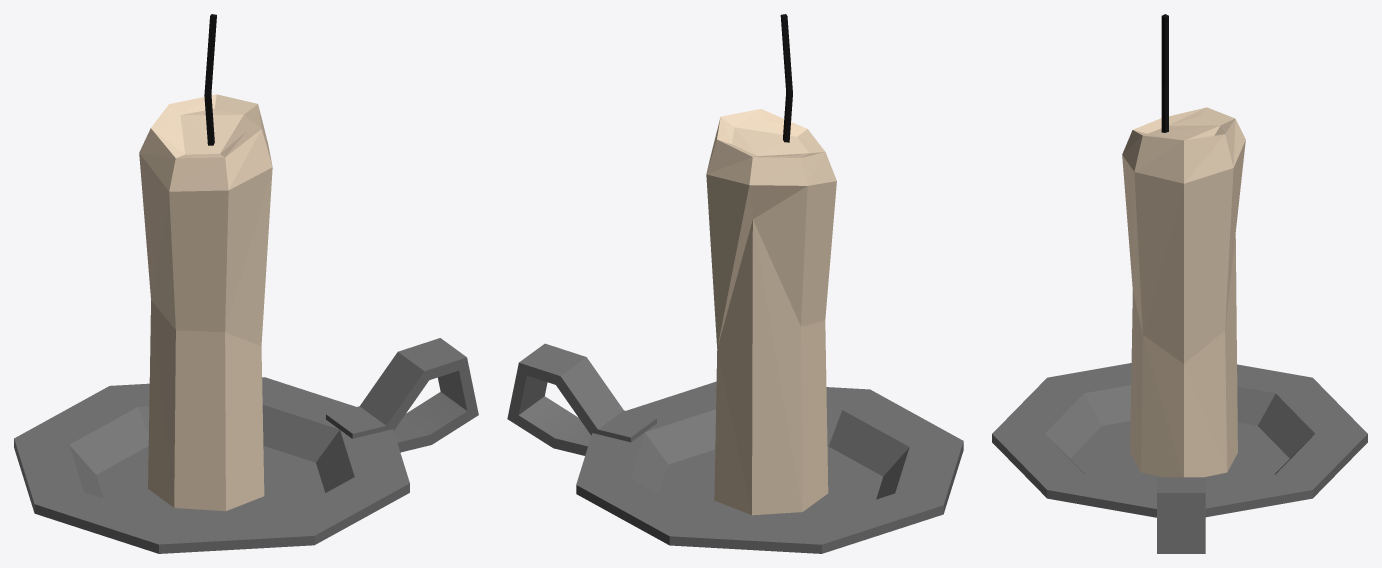
File: SM_candle_01.fbx
3 views of the same model, side by side, from view 1: azimuth 30°, elevation 25°; view 2: azimuth 150°, elevation 25°; view 3: azimuth 270°, elevation 25° (orthographic). The views are drawn at different scales.
Visible parts, largest first — view 1: Line012; view 2: Line012; view 3: Line012.
Part boxes in pixels (x1=…): Line012: x1=14, y1=14, x2=478, y2=553; Line012: x1=507, y1=14, x2=963, y2=553; Line012: x1=992, y1=14, x2=1367, y2=553.
Bounding box in the file's own units: 15.28 × 16.28 × 12.56.
